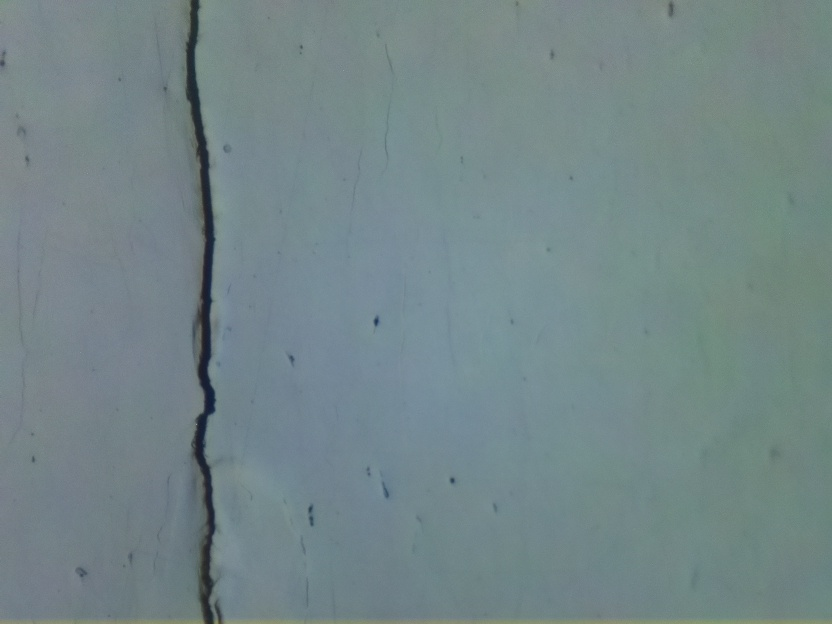crack: (179, 0, 232, 624)
